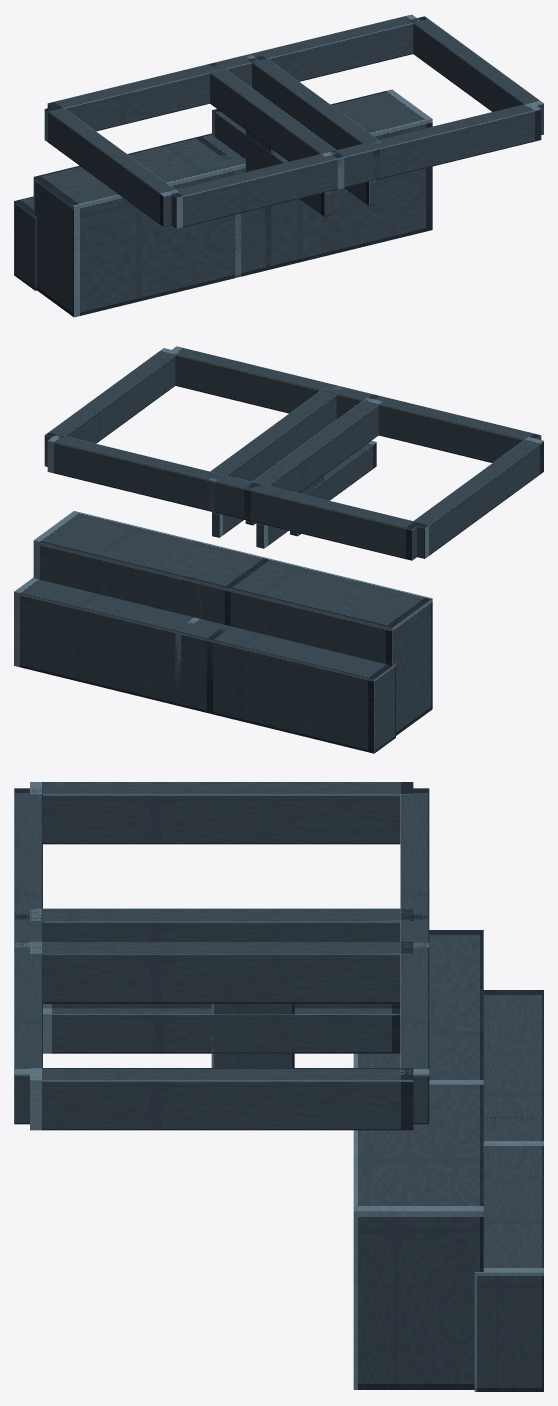
The model's file is workpiece_xuantie_boots_quenched.obj.
3 renders of one model, top to bottom at view 1: azimuth 30°, elevation 25°; view 2: azimuth 150°, elevation 25°; view 3: azimuth 270°, elevation 25°, orthographic. The views are drawn at different scales.
Visible parts, largest first — view 1: geometry; view 2: geometry; view 3: geometry.
Part boxes in pixels (bbox=[...]): geometry: bbox=[14, 14, 543, 317]; geometry: bbox=[14, 346, 543, 753]; geometry: bbox=[14, 782, 543, 1391].
Size of the model in its own units: 0.56 by 0.2794 by 0.4203.
